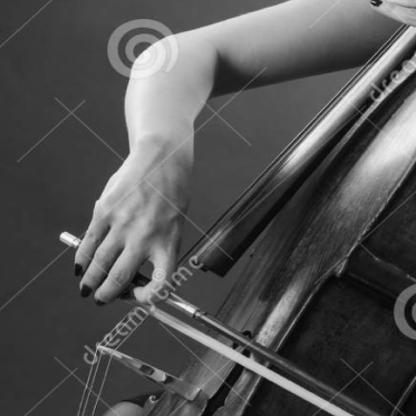good: (59, 182, 182, 315)
